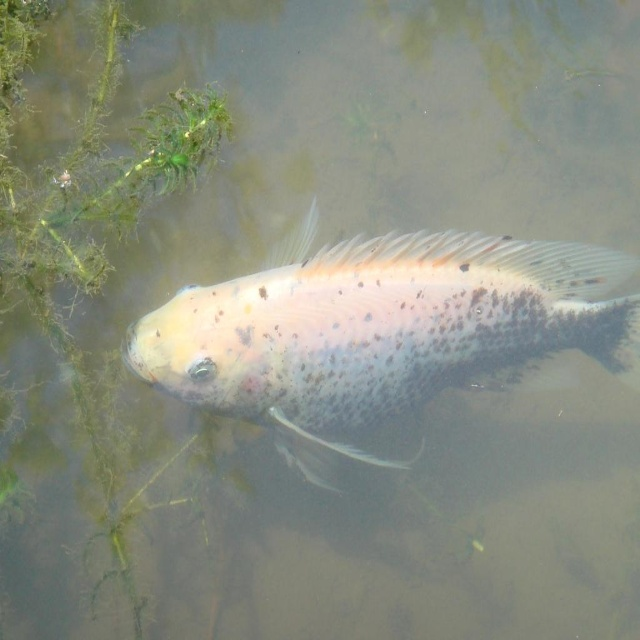Fish: (120, 195, 640, 495)
